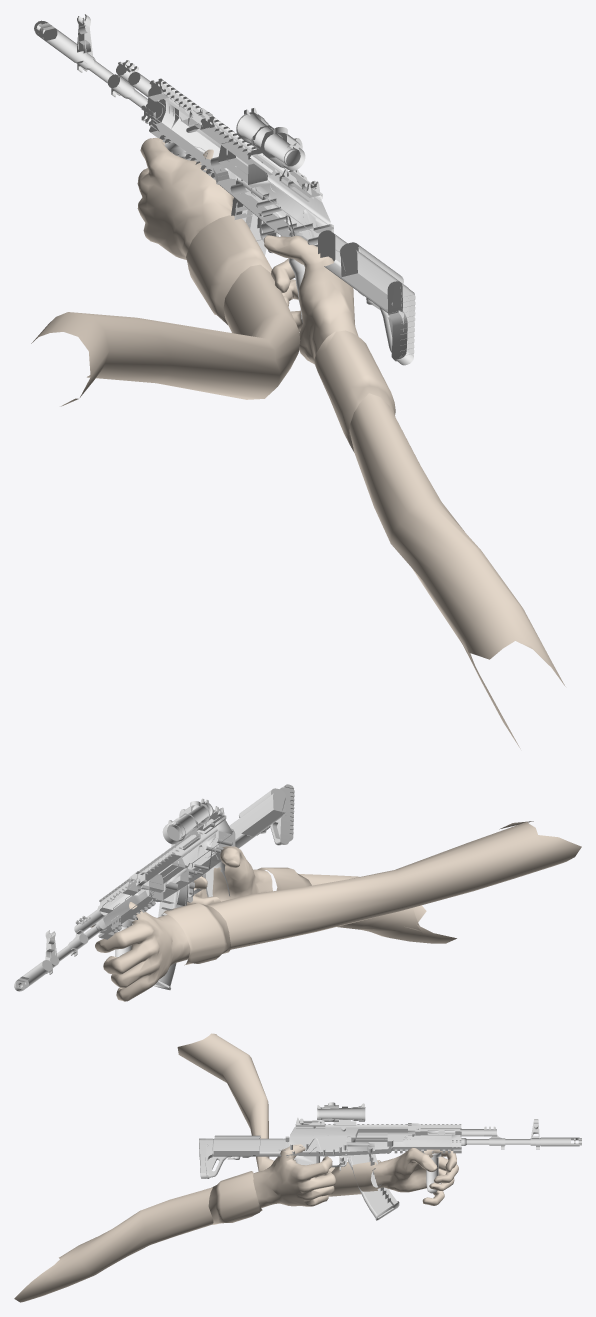
File: akr12_posed.glb
3 views of the same model, one above another, from view 1: azimuth 30°, elevation 25°; view 2: azimuth 150°, elevation 25°; view 3: azimuth 270°, elevation 25° (orthographic). The views are drawn at different scales.
Visible parts, largest first — view 1: char, body, mag; view 2: char, body, mag, mag2; view 3: char, body, mag, mag2.
Boxes of the visible parts, <box> form: char: <box>31,138,565,748</box>; body: <box>34,20,415,365</box>; mag: <box>231,178,271,255</box>; char: <box>90,821,581,1001</box>; body: <box>14,784,294,991</box>; mag: <box>153,867,188,990</box>; mag2: <box>155,870,187,988</box>; char: <box>14,1033,458,1302</box>; body: <box>199,1102,581,1193</box>; mag: <box>346,1142,399,1220</box>; mag2: <box>346,1143,397,1217</box>.
Size of the model in its own units: 0.6999 by 0.5964 by 1.48.
